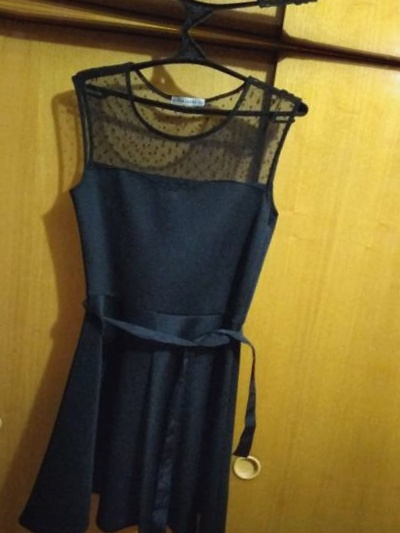Dress: (0, 38, 332, 533), (60, 0, 400, 27)
